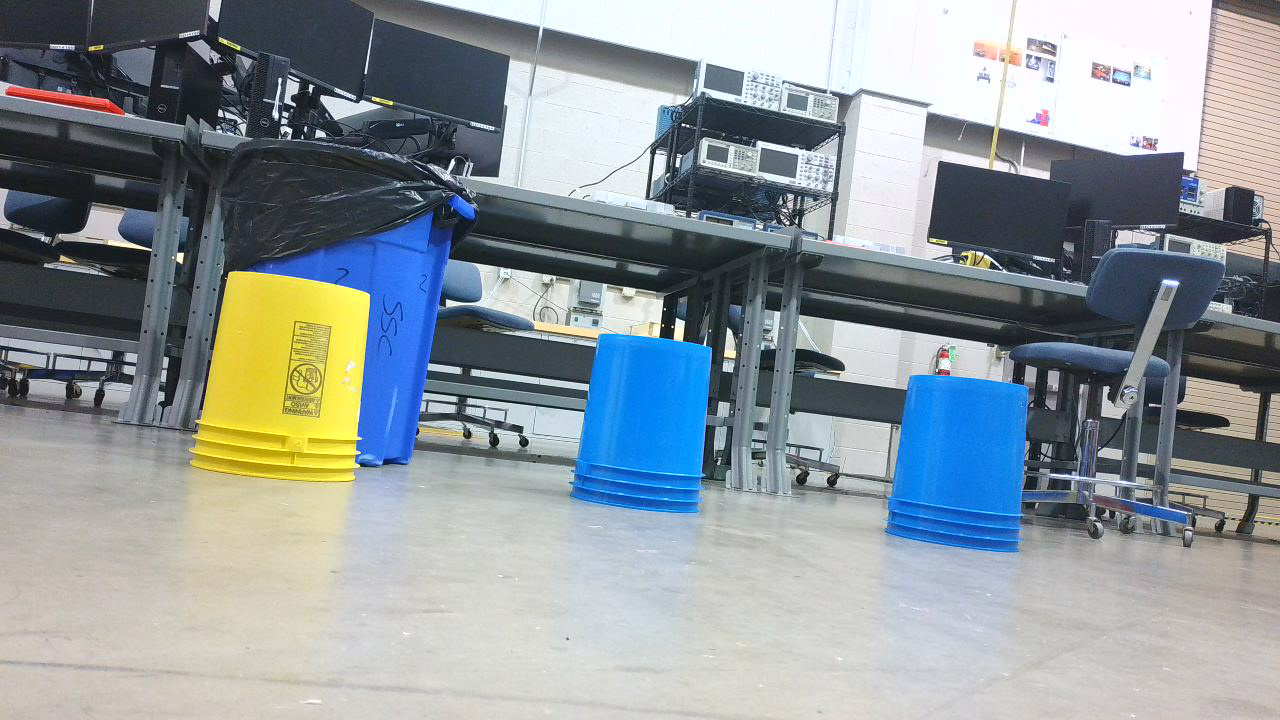blue_bucket: (571, 335, 725, 526), (884, 374, 1039, 562)
yellow_bucket: (192, 268, 383, 492)
